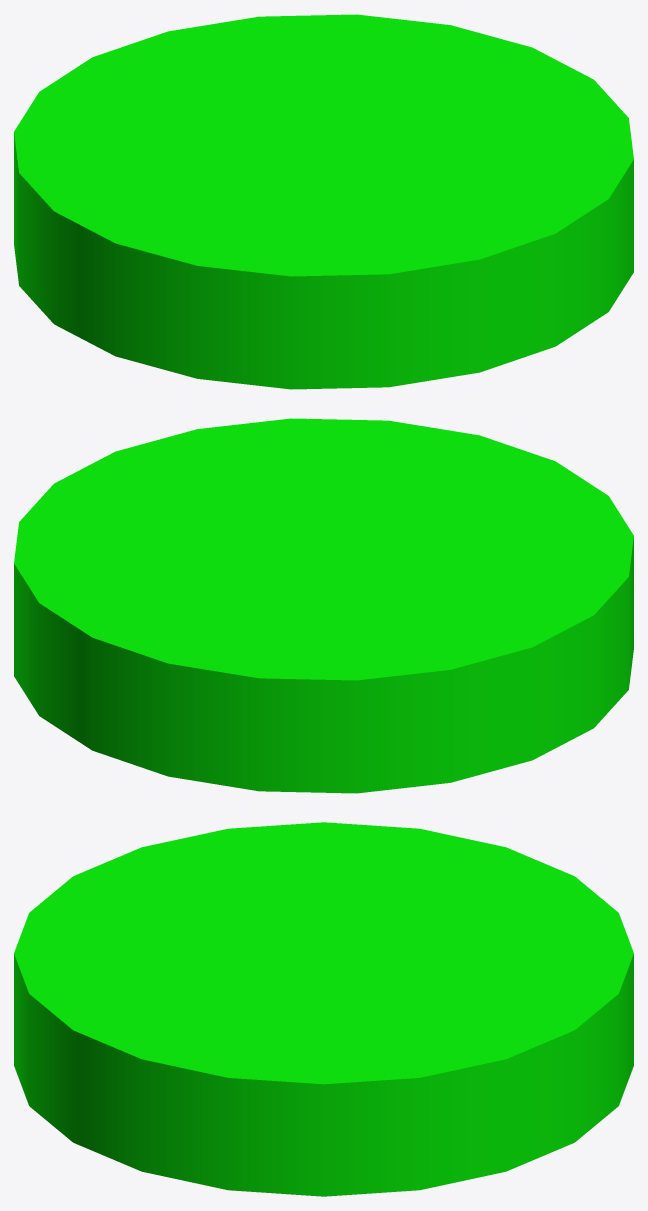
The picture shows the model from 3 angles, top to bottom: view 1: azimuth 30°, elevation 25°; view 2: azimuth 150°, elevation 25°; view 3: azimuth 270°, elevation 25°; orthographic projection.
Visible parts, largest first — view 1: Cylinder; view 2: Cylinder; view 3: Cylinder.
Part boxes in pixels (x1,y1,x2,y2): Cylinder: (14,14,633,389); Cylinder: (14,418,633,793); Cylinder: (14,822,633,1196).
Size of the model in its own units: 2 by 0.4 by 2.
